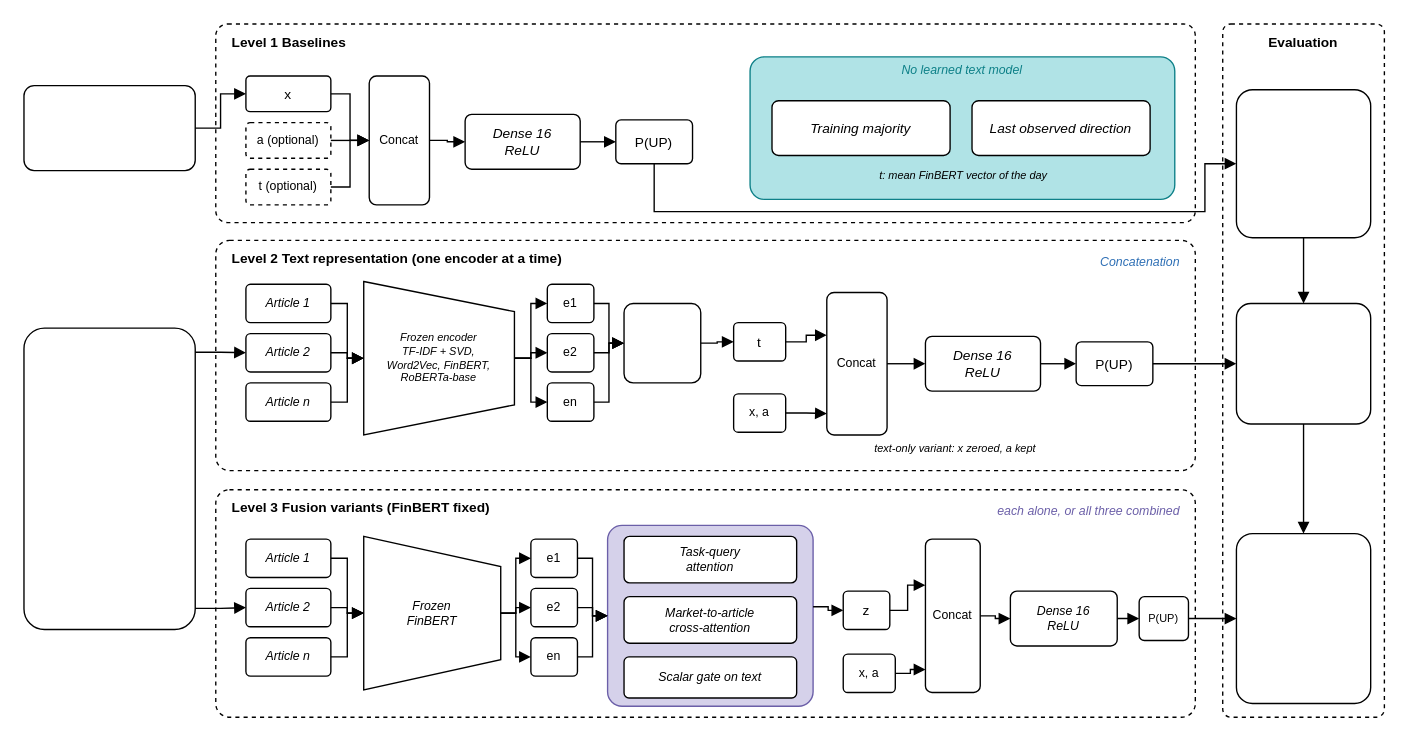
Image size: 1408x741. Some labels were removed from this diagram. The shapes that lost their labels are listed below. From the top down, each one's centre as x and y in pixels, then its label:
At point (109, 127): "Market features (14 inputs, data up to day t)".
At point (1303, 163): "Select on 3 expanding validation folds (purged), seeds 42, 123, 2026".
At point (662, 342): "Mean".
At point (1303, 363): "Refit on all 930 development decisions".
At point (109, 478): "News articles (headline + first 180 words)".
At point (1303, 617): "Test: 235 days, threshold 0.5 MCC, AUC, log loss, accuracy".
